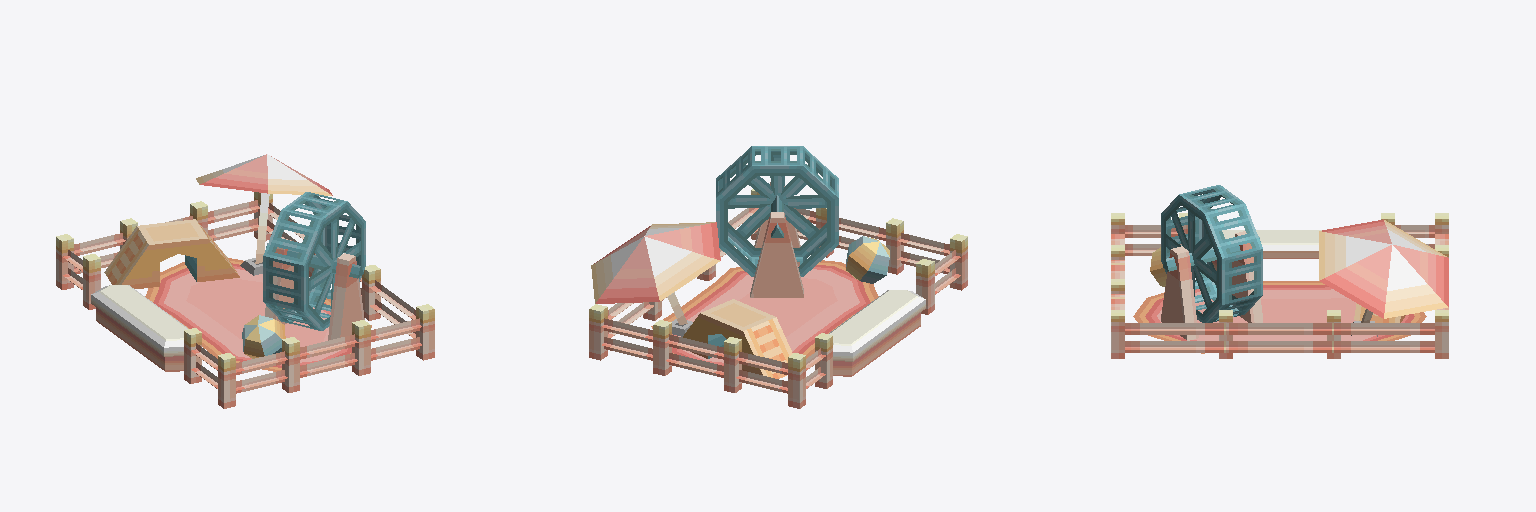
3 views of the same model, side by side, from view 1: azimuth 30°, elevation 25°; view 2: azimuth 150°, elevation 25°; view 3: azimuth 270°, elevation 25° (orthographic).
Visible parts, largest first — view 1: polygon0; view 2: polygon0; view 3: polygon0.
Boxes of the visible parts, x1=… form: polygon0: x1=56, y1=154, x2=434, y2=408; polygon0: x1=589, y1=146, x2=967, y2=408; polygon0: x1=1111, y1=185, x2=1448, y2=358.
Bounding box in the file's own units: 10.69 × 5.65 × 13.
Materials: 2 (2 with a texture image).